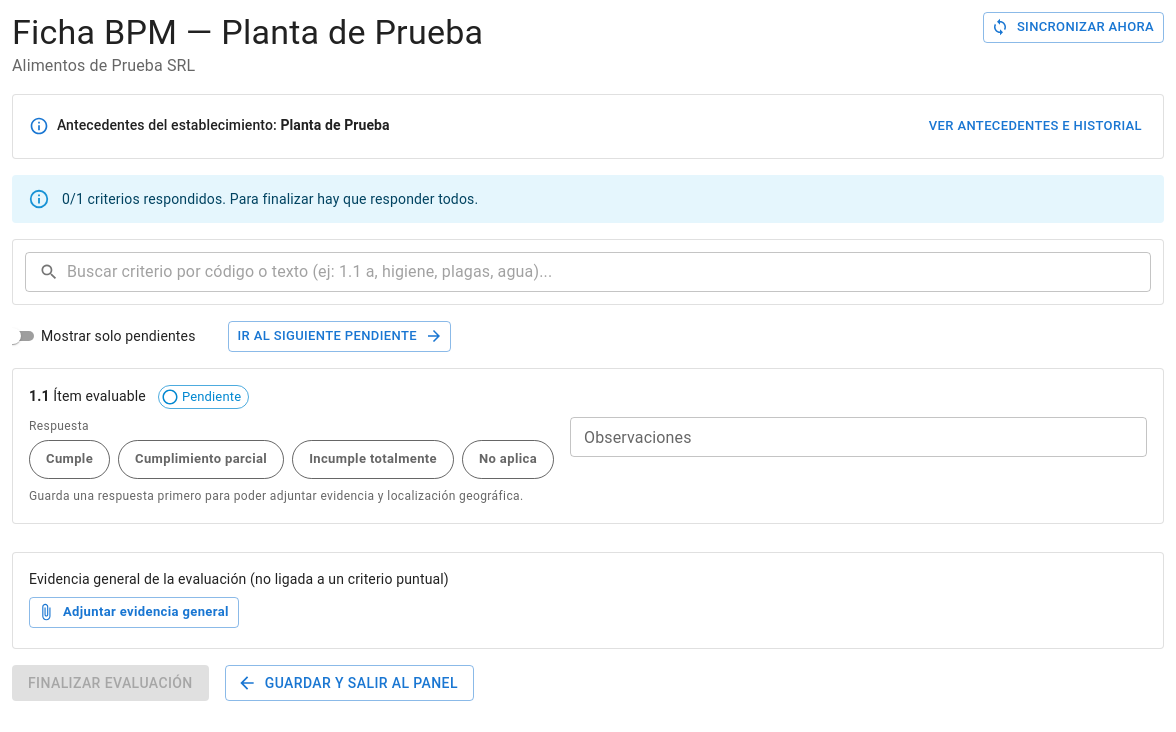
Test: EjecutarEvaluacion — en línea (comportamiento existente sin romper) › auto-guarda la respuesta contra el servidor al seleccionar "Cumple"
The width and height of the screenshot is (1176, 732).
expect the text "Ítem evaluable" is shown: met, box [53,388,146,404]
# "Cumple" (C) se auto-guarda al hacer clic, sin necesidad de pulsar "Guardar"
Click the button "Cumple". click: x=70, y=460
box: [29,440,110,479]
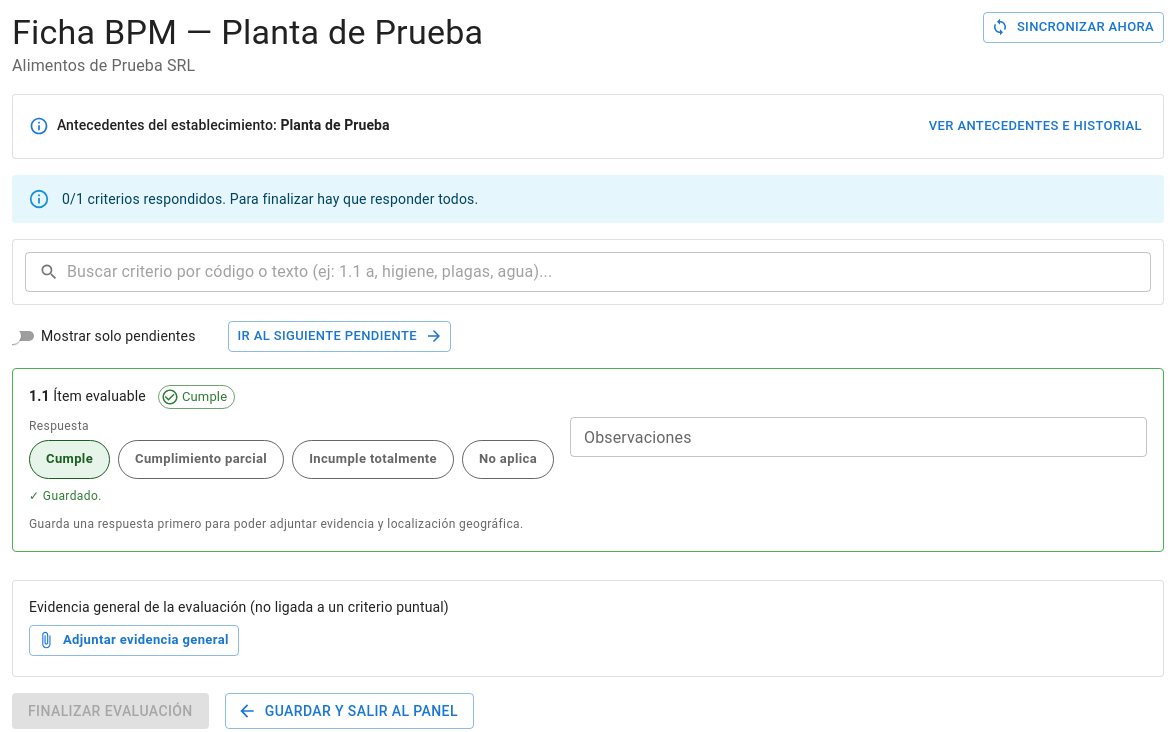
expect the text "✓ Guardado." is shown: met, box [29,489,102,503]
